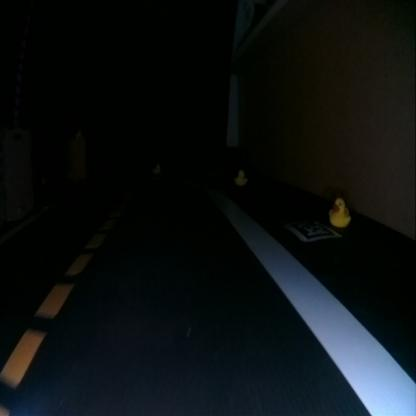Duckie: (329, 200, 350, 226), (235, 170, 244, 184), (153, 164, 158, 170)
QR code: (288, 219, 339, 240)
